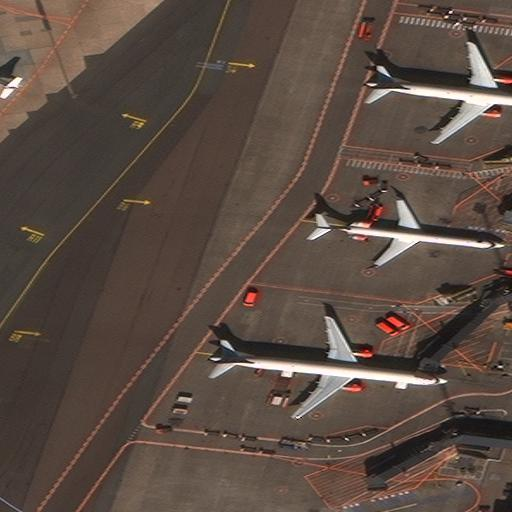Medium Civil Transport: (206, 317, 449, 420), (363, 41, 512, 144), (312, 199, 512, 267)
